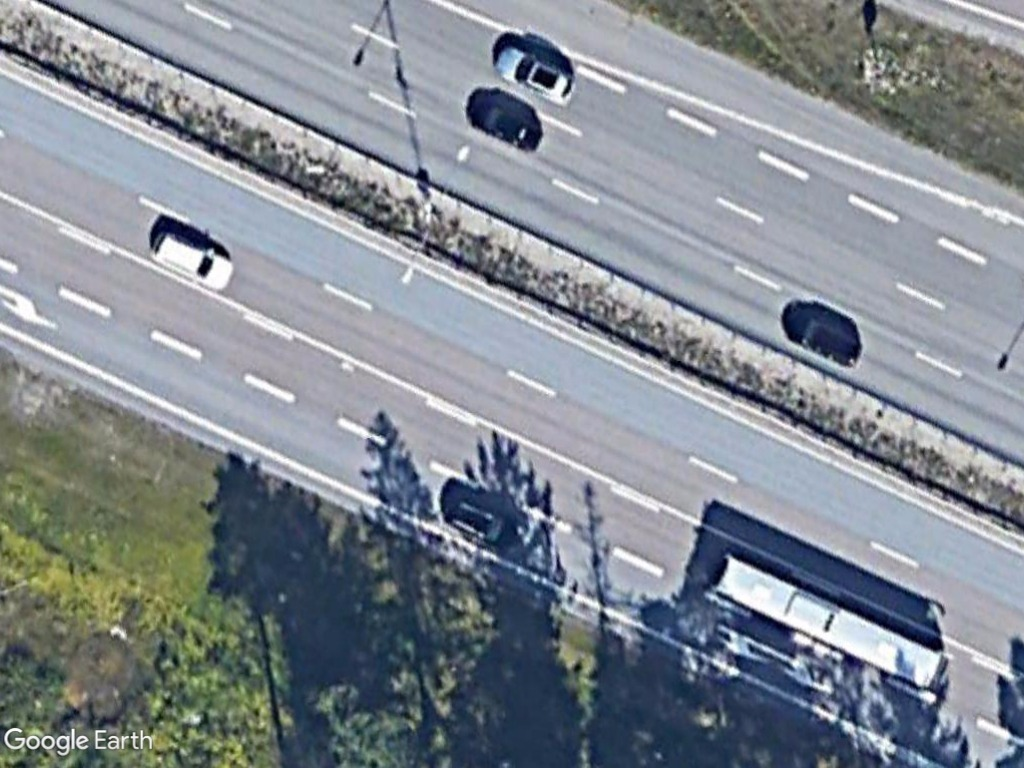bus: (707, 545, 956, 696)
car: (143, 223, 243, 298), (487, 35, 580, 110), (461, 84, 546, 156), (781, 303, 867, 371)
